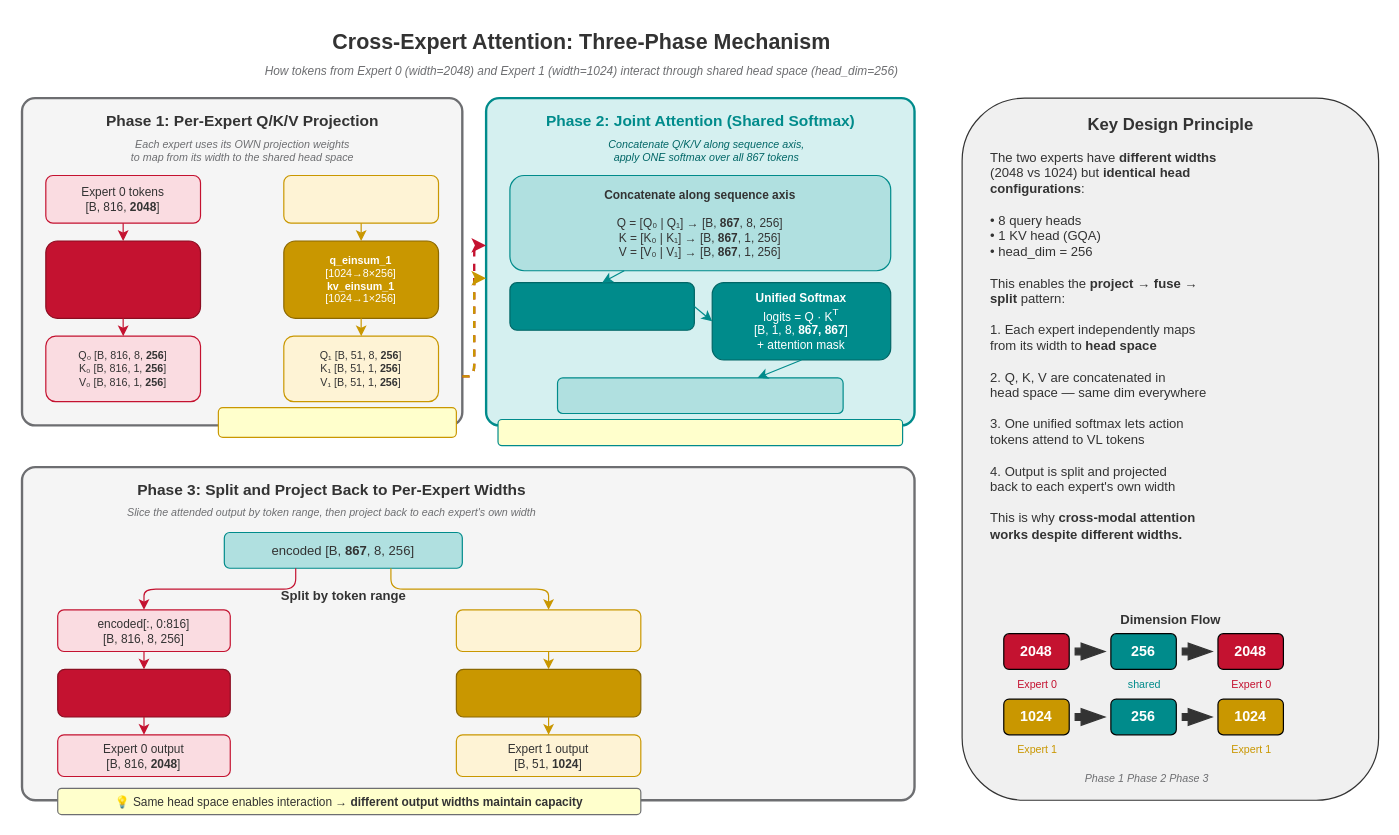
Some shapes in this 1399 by 835 pixel diagram are drawn without their labels. Here are the shapes that lost their labels. From the top down, the centre of each, then its label:
the point at 361,198: Expert 1 tokens [B, 51, 1024 ]
the point at 123,279: q_einsum [2048→8×256] kv_einsum [2048→1×256]
the point at 601,305: Apply RoPE to Q, K Scale Q by √head_dim
the point at 699,395: encoded = probs · V [B, 867 , 8, 256]
the point at 336,421: 💡 Different input widths → same head_dim=256
the point at 700,432: 💡 Action tokens see image & language keys → cross-modal attention
the point at 548,630: encoded[:, 816:867] [B, 51, 8, 256]
the point at 143,692: attn_vec_einsum [8, 256] → 2048
the point at 548,692: attn_vec_einsum_1 [8, 256] → 1024
